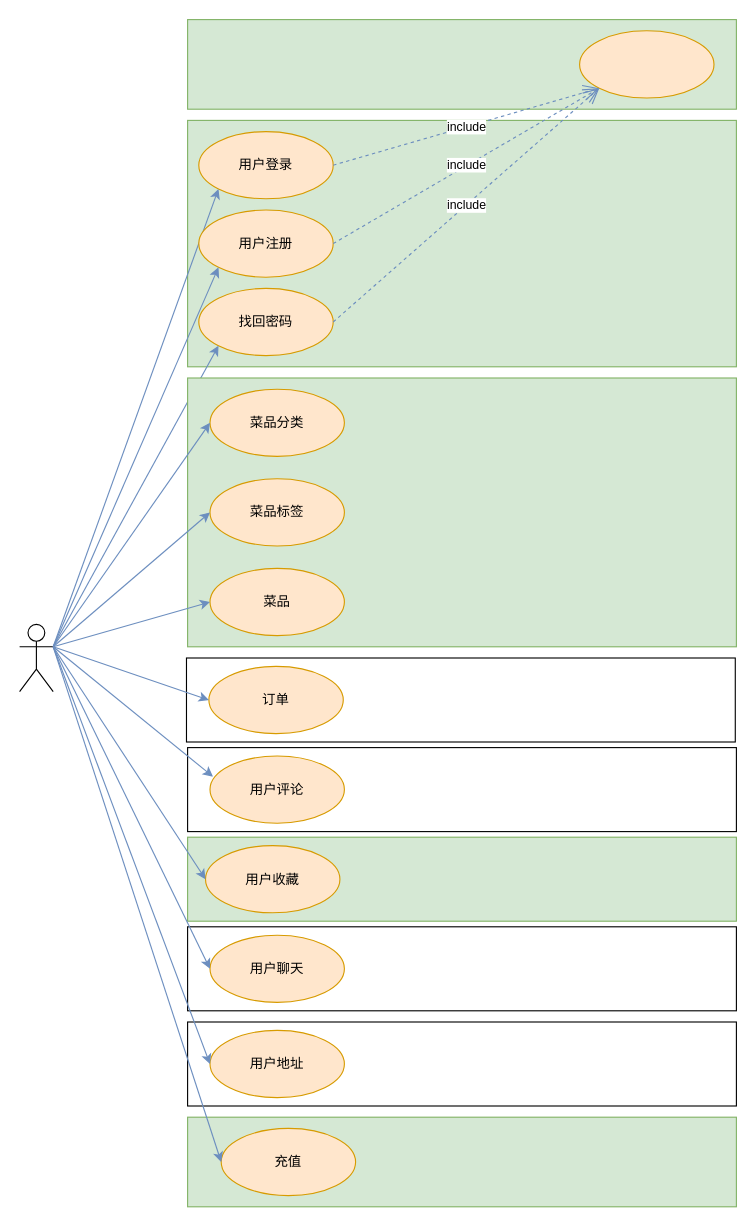
Image size: 756x1226. Some labels were removed from this diagram. Here are the shapes that lost their labels. From the top down, the centre of each, then its label:
[646,64]: 邮箱验证码
[35,657]: user
